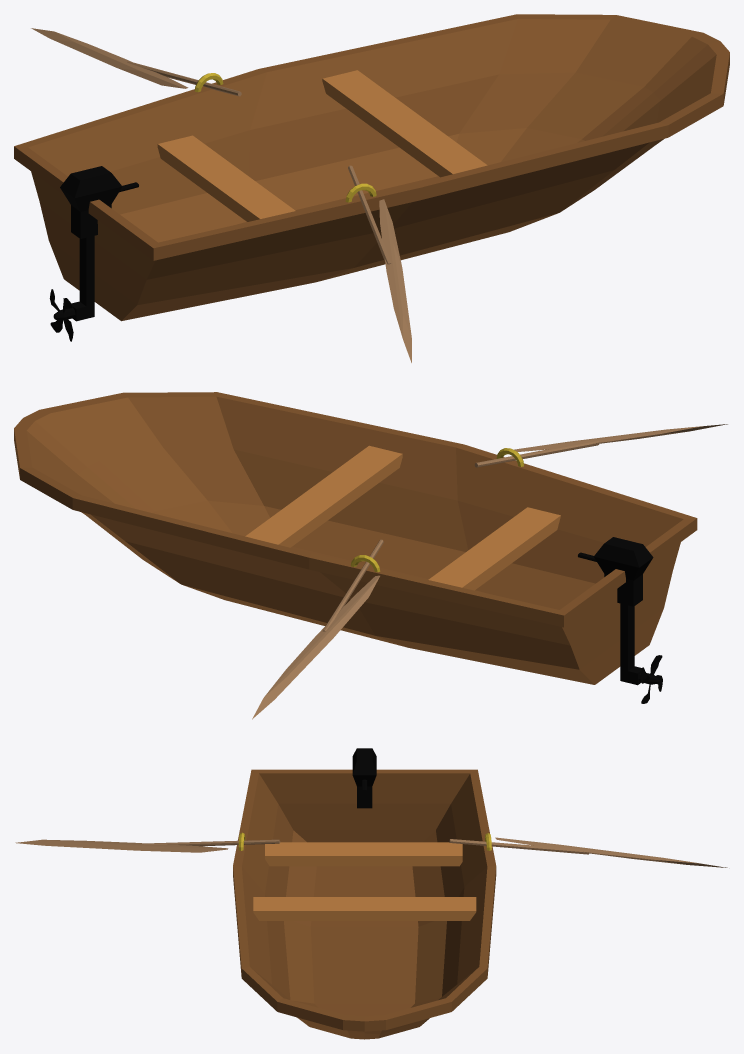
Rendered from Boat.fbx.
3 renders of one model, top to bottom at view 1: azimuth 30°, elevation 25°; view 2: azimuth 150°, elevation 25°; view 3: azimuth 270°, elevation 25°, orthographic. The views are drawn at different scales.
Visible parts, largest first — view 1: Boat, Seat, Seat 1, Cube, PaddleEnd, PaddleEnd.001, Paddle, Paddle.001; view 2: Boat, Seat, Seat 1, Cube, PaddleEnd.001, PaddleEnd, Paddle, Paddle.001; view 3: Boat, Seat, Seat 1, PaddleEnd, Cube, PaddleEnd.001, Paddle.001, Paddle.
Boxes of the visible parts, box(x1,y1,x2,y2) form: Boat: box(14, 14, 729, 321); Seat: box(322, 70, 487, 177); Seat 1: box(157, 135, 295, 221); Cube: box(49, 166, 138, 341); PaddleEnd: box(379, 199, 411, 362); PaddleEnd.001: box(31, 28, 188, 88); Paddle: box(348, 165, 391, 264); Paddle.001: box(127, 61, 241, 96); Boat: box(14, 392, 697, 684); Seat: box(245, 445, 402, 547); Seat 1: box(428, 507, 560, 590); Cube: box(578, 537, 662, 703); PaddleEnd.001: box(252, 575, 379, 719); PaddleEnd: box(514, 424, 727, 451); Paddle: box(474, 440, 599, 467); Paddle.001: box(323, 539, 383, 631); Boat: box(233, 769, 496, 1039); Seat: box(253, 897, 476, 920); Seat 1: box(265, 842, 462, 866); PaddleEnd: box(15, 839, 228, 852); Cube: box(352, 748, 376, 808); PaddleEnd.001: box(495, 837, 727, 867); Paddle.001: box(449, 839, 589, 854); Paddle: box(144, 839, 280, 846).
Size of the model in its own units: 307 by 68.55 by 352.
